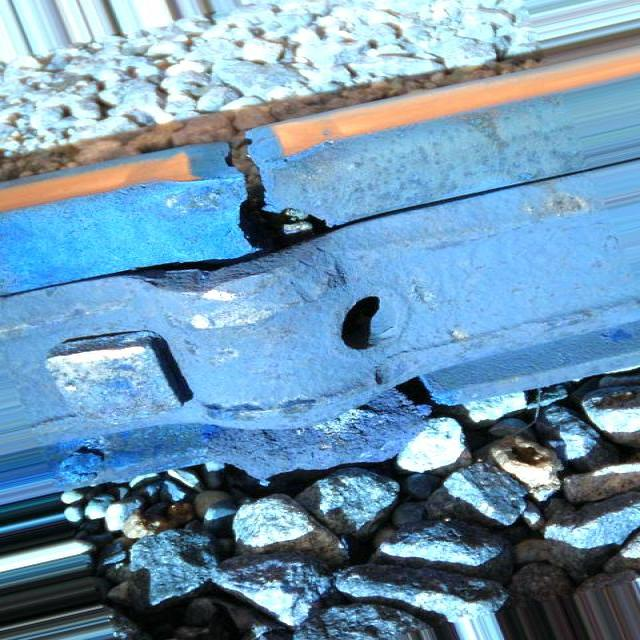crack: (124, 106, 546, 498)
